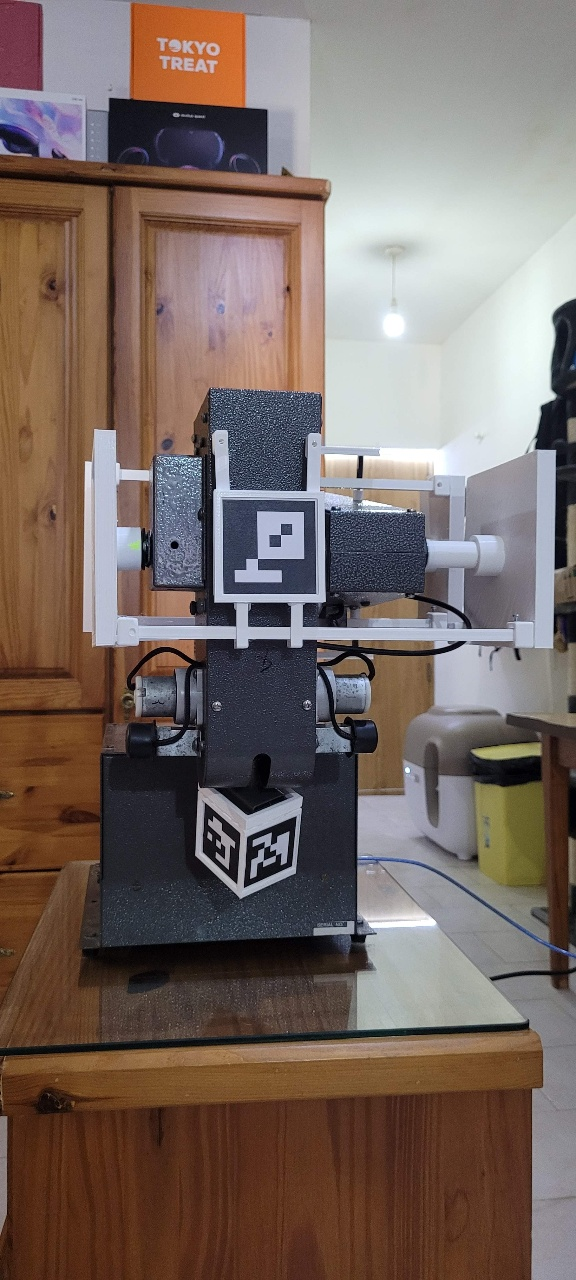Robot: (3, 394, 560, 1201)
